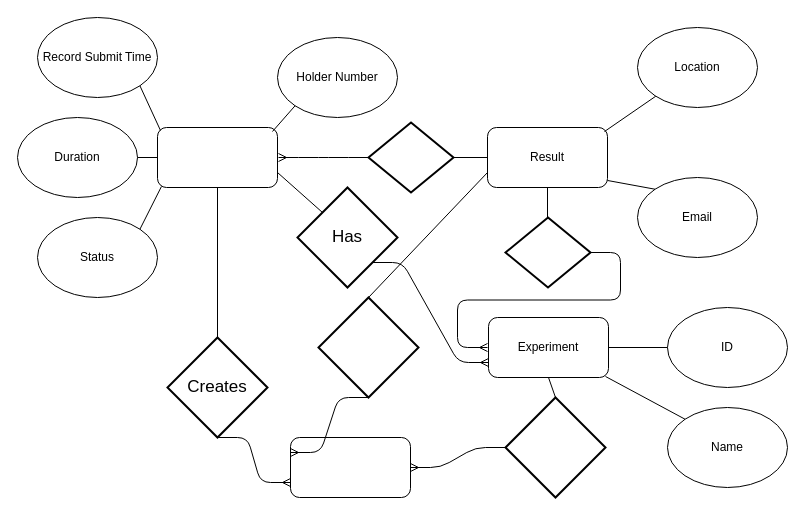
Some shapes in this 805 by 516 pixel diagram are drawn without their labels. The shapes that lost their labels are listed below. From the top down, each one's centre as x and y in pixels, then its label:
At point (217, 157): "Sample".
At point (410, 157): "Contains".
At point (547, 252): "Offers".
At point (368, 347): "Obtains".
At point (350, 467): "User".
At point (555, 447): "Performs".
